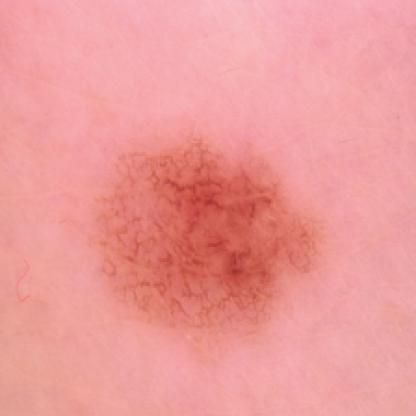benign: (96, 143, 330, 321)
